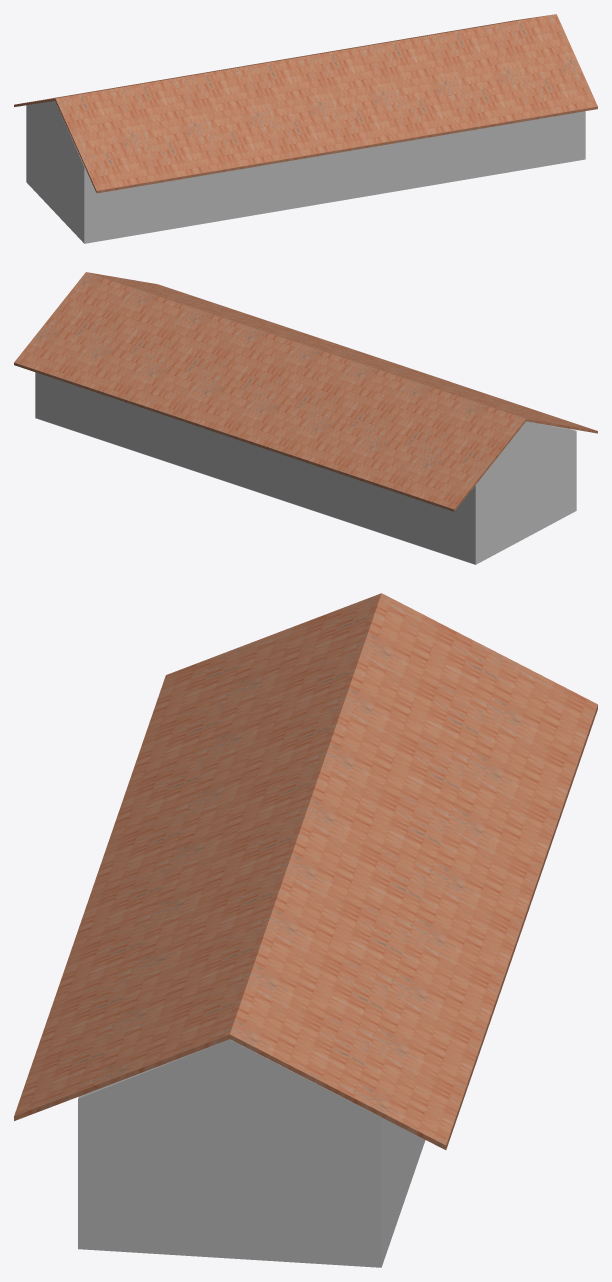
File: BLQ_09_LOD02.fbx
3 renders of one model, top to bottom at view 1: azimuth 30°, elevation 25°; view 2: azimuth 150°, elevation 25°; view 3: azimuth 270°, elevation 25°, orthographic. The views are drawn at different scales.
Visible parts, largest first — view 1: TECHO_BLOQUE9.001, BLOQUE9.001; view 2: TECHO_BLOQUE9.001, BLOQUE9.001; view 3: TECHO_BLOQUE9.001, BLOQUE9.001.
Part boxes in pixels (x1,y1,x2,y2): TECHO_BLOQUE9.001: (14,14,597,193); BLOQUE9.001: (26,101,585,243); TECHO_BLOQUE9.001: (14,272,597,511); BLOQUE9.001: (35,372,576,564); TECHO_BLOQUE9.001: (14,593,597,1149); BLOQUE9.001: (78,1039,425,1267).
Bounding box in the file's own units: 3609 × 806 × 1904.
